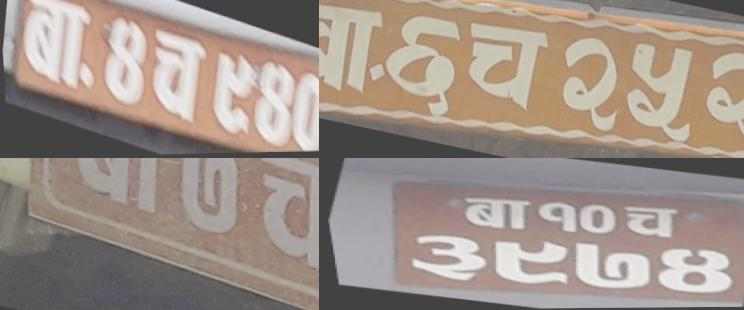0: (49, 158, 182, 219), (319, 0, 386, 96), (284, 67, 319, 153), (565, 198, 627, 244)
1: (549, 32, 628, 129), (692, 46, 744, 149), (523, 196, 587, 240)
3: (389, 226, 499, 286)
4: (375, 8, 468, 111), (637, 243, 744, 303), (92, 9, 154, 110), (245, 54, 301, 153)
6: (613, 38, 701, 141)
7: (157, 158, 255, 239), (556, 241, 662, 298)
9: (233, 158, 319, 276), (452, 16, 547, 109), (471, 234, 582, 294), (204, 45, 260, 142)
ba: (11, 0, 102, 96), (449, 192, 540, 238)
cha: (141, 23, 210, 127), (605, 199, 693, 246)
